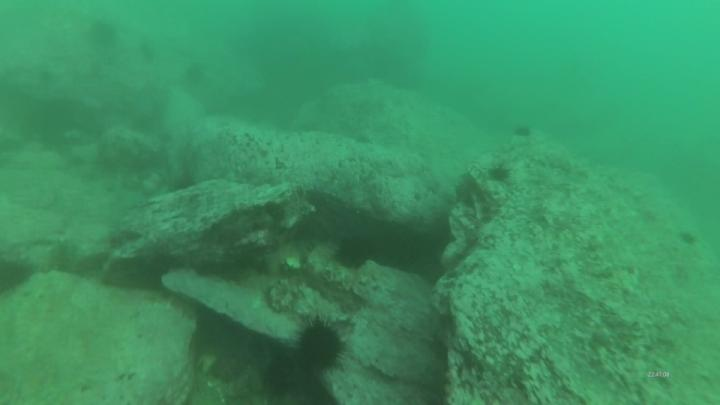echinus: (293, 314, 347, 376), (334, 233, 378, 272), (259, 359, 296, 404), (142, 254, 181, 291), (205, 352, 247, 385), (1, 256, 35, 296), (86, 19, 120, 50), (262, 198, 291, 227), (485, 160, 515, 186), (509, 125, 536, 143), (677, 227, 698, 250)
